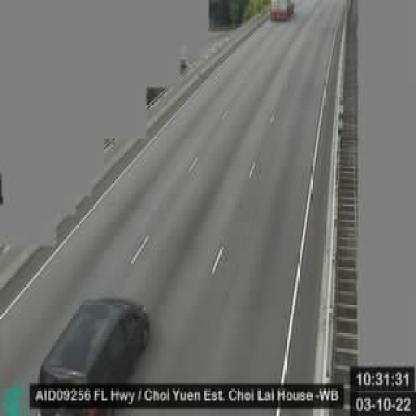Car: (38, 295, 150, 414)
